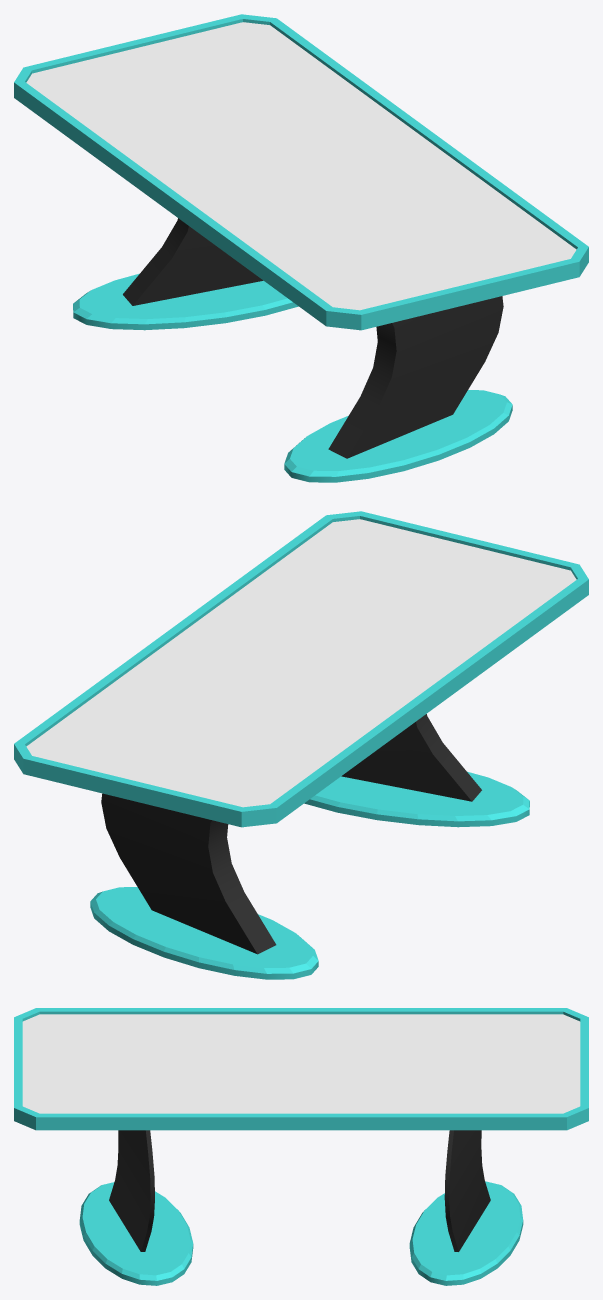
The model's file is Desk.FBX.
3 renders of one model, top to bottom at view 1: azimuth 30°, elevation 25°; view 2: azimuth 150°, elevation 25°; view 3: azimuth 270°, elevation 25°, orthographic. The views are drawn at different scales.
Visible parts, largest first — view 1: DeskBoard; view 2: DeskBoard; view 3: DeskBoard.
Part boxes in pixels (box(x1,y1,x2,y2)): DeskBoard: box(14, 14, 588, 482); DeskBoard: box(14, 511, 588, 979); DeskBoard: box(14, 1008, 588, 1285).
Size of the model in its own units: 41.63 by 30.94 by 92.72.
3 materials, 1 textured.
